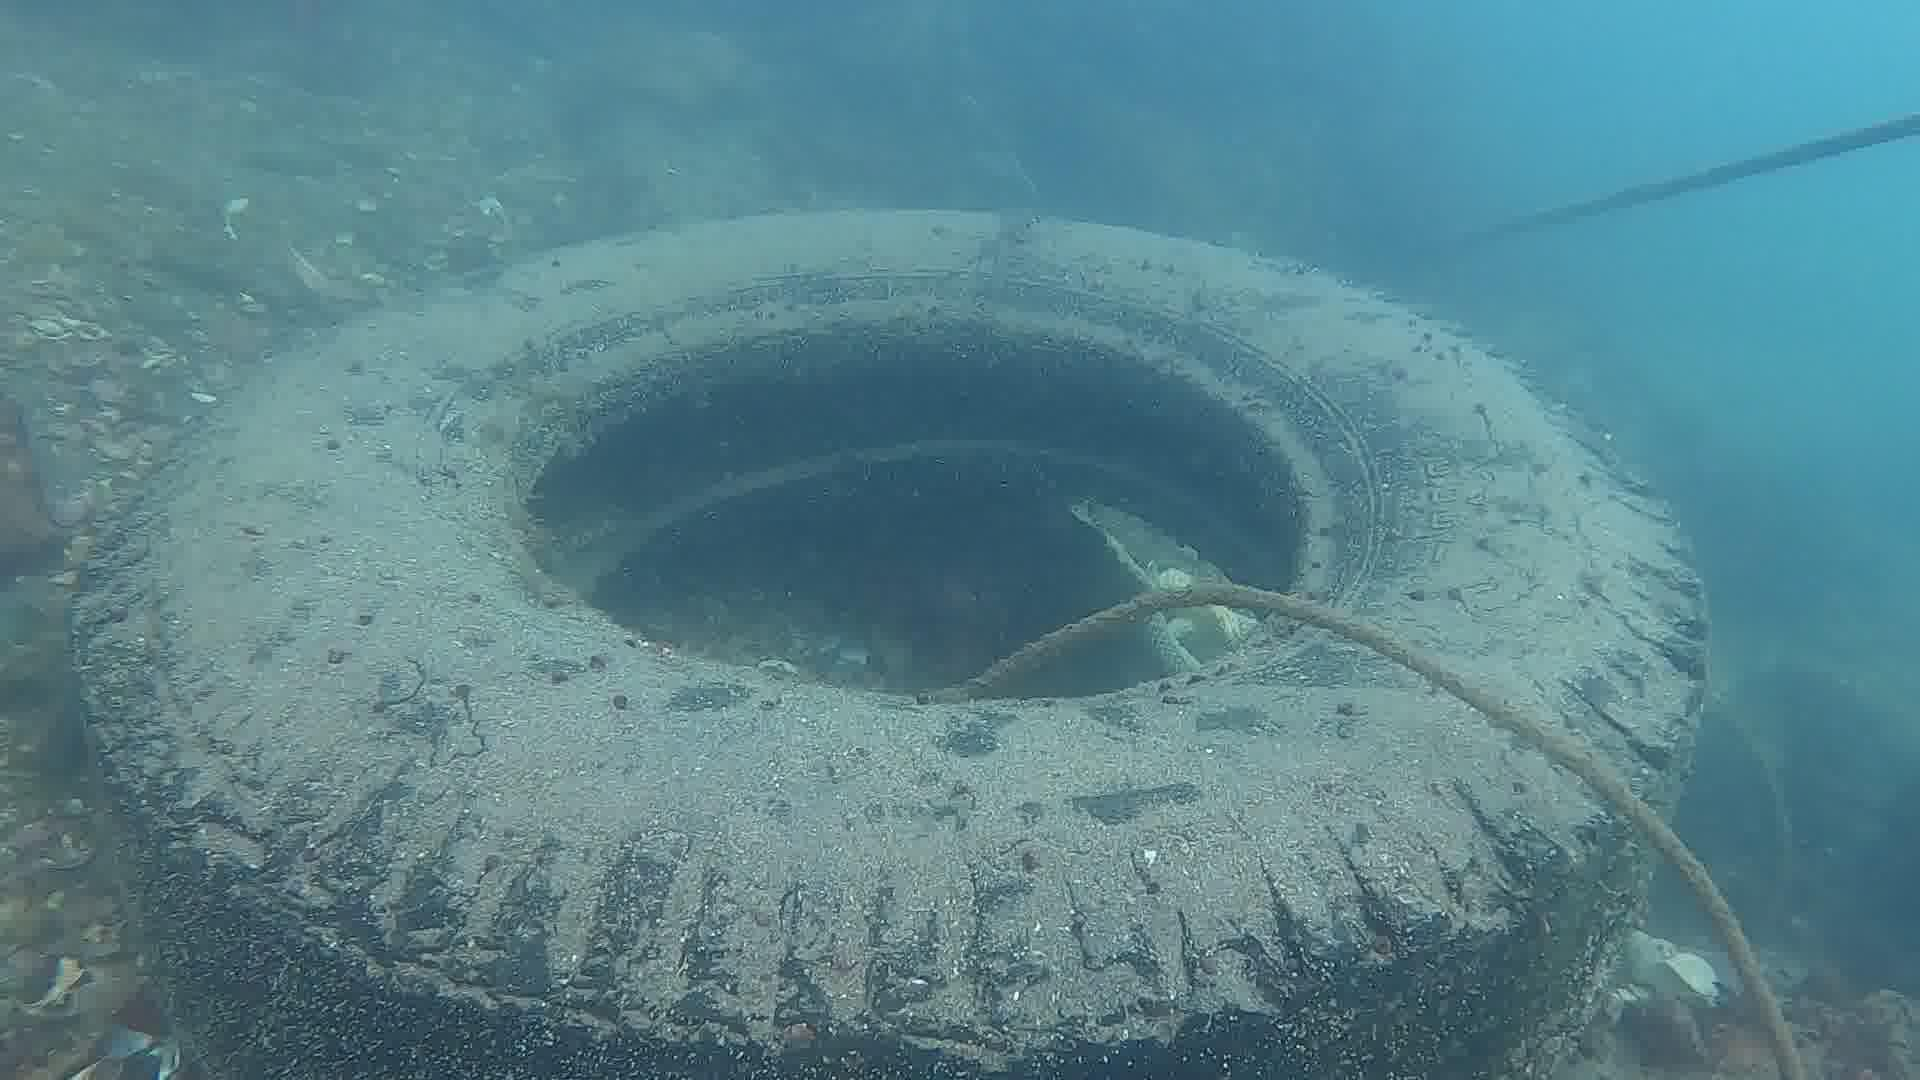rope: (913, 578, 1829, 1080)
tire: (70, 206, 1706, 1080)
